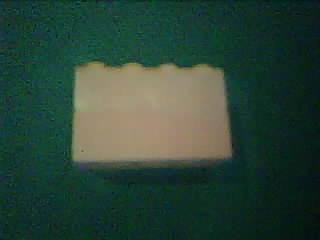lego: (70, 60, 234, 169)
